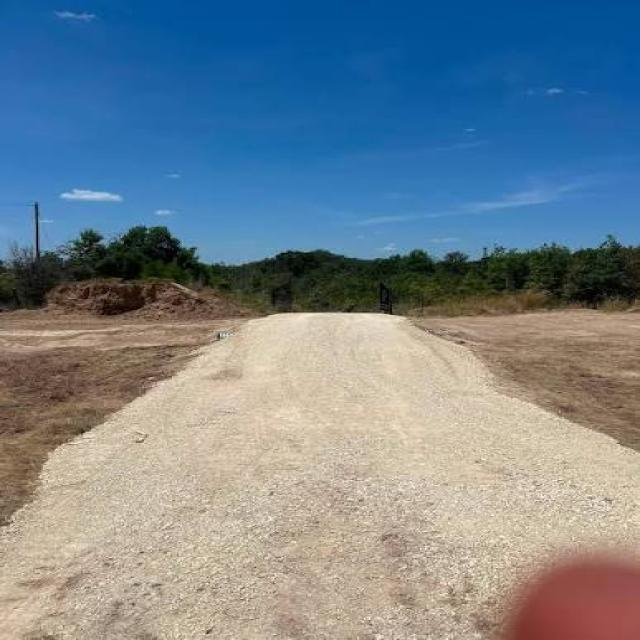suelo_compacto: (277, 335, 486, 627)
